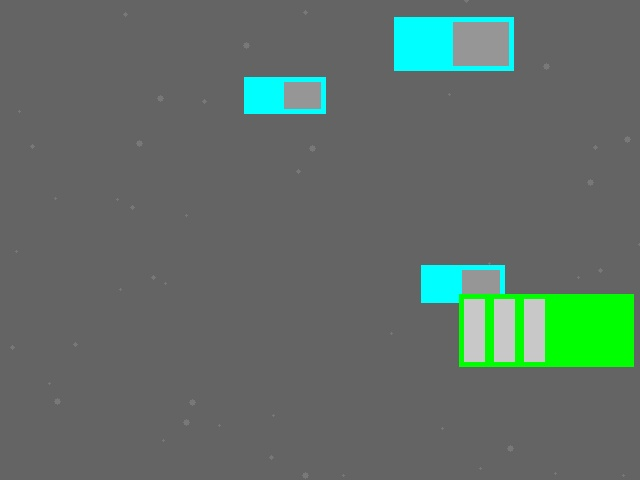bus: (459, 294, 633, 366)
truck: (394, 17, 513, 70), (421, 265, 504, 302), (244, 77, 325, 113)
